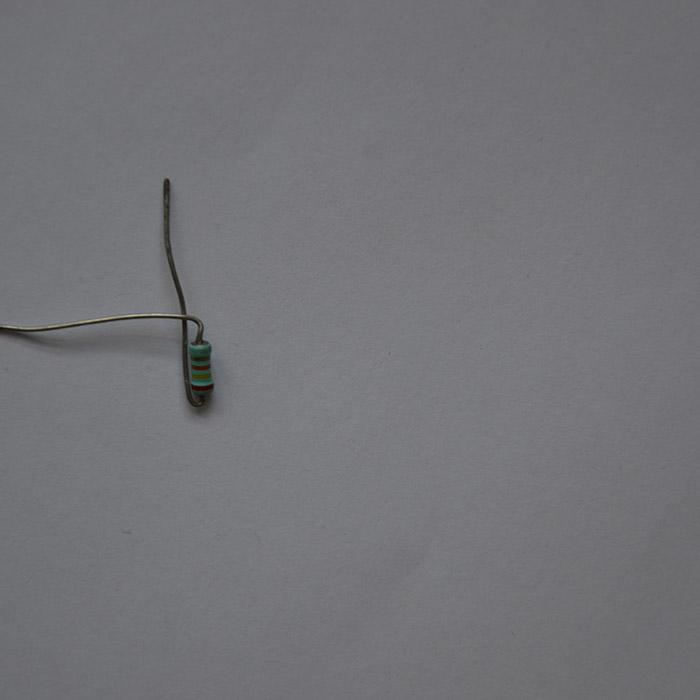resistor: (187, 339, 214, 394)
